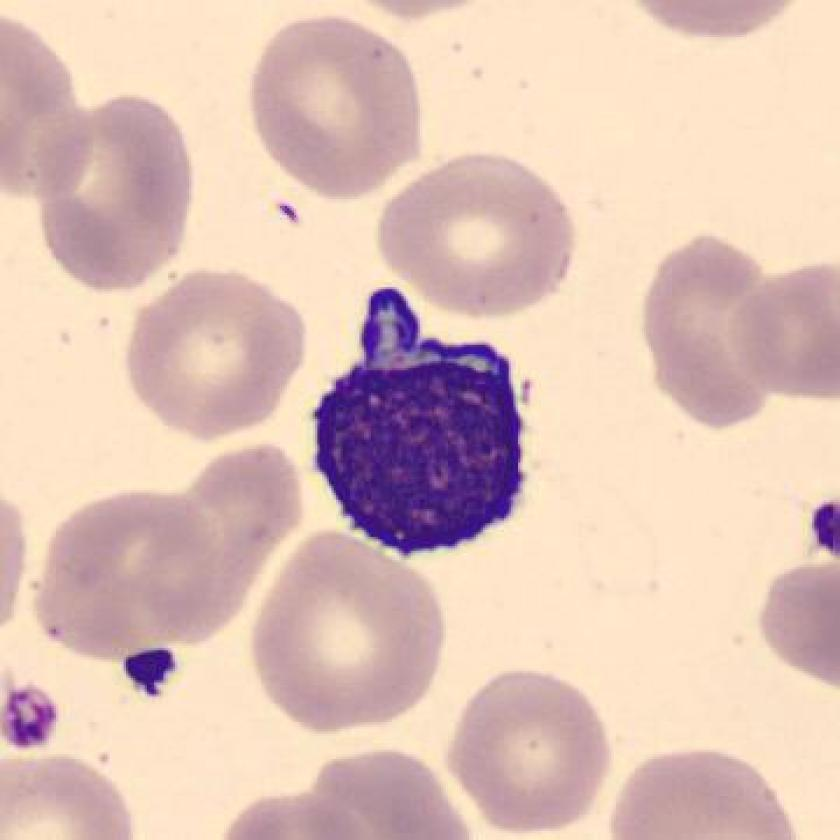lymphocyte: (293, 276, 542, 566)
